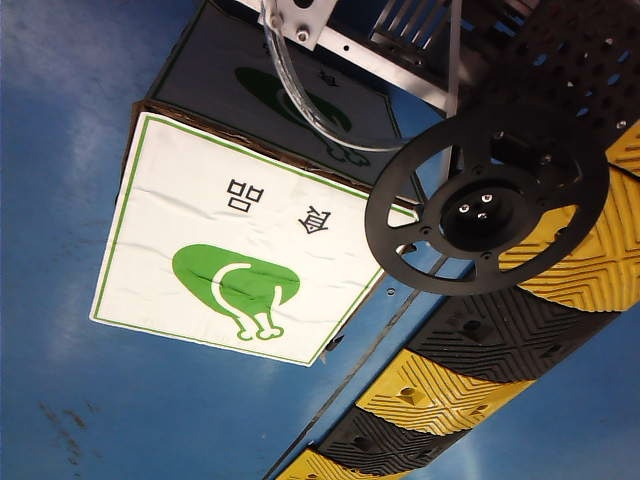Cube_food: (146, 176, 347, 348)
